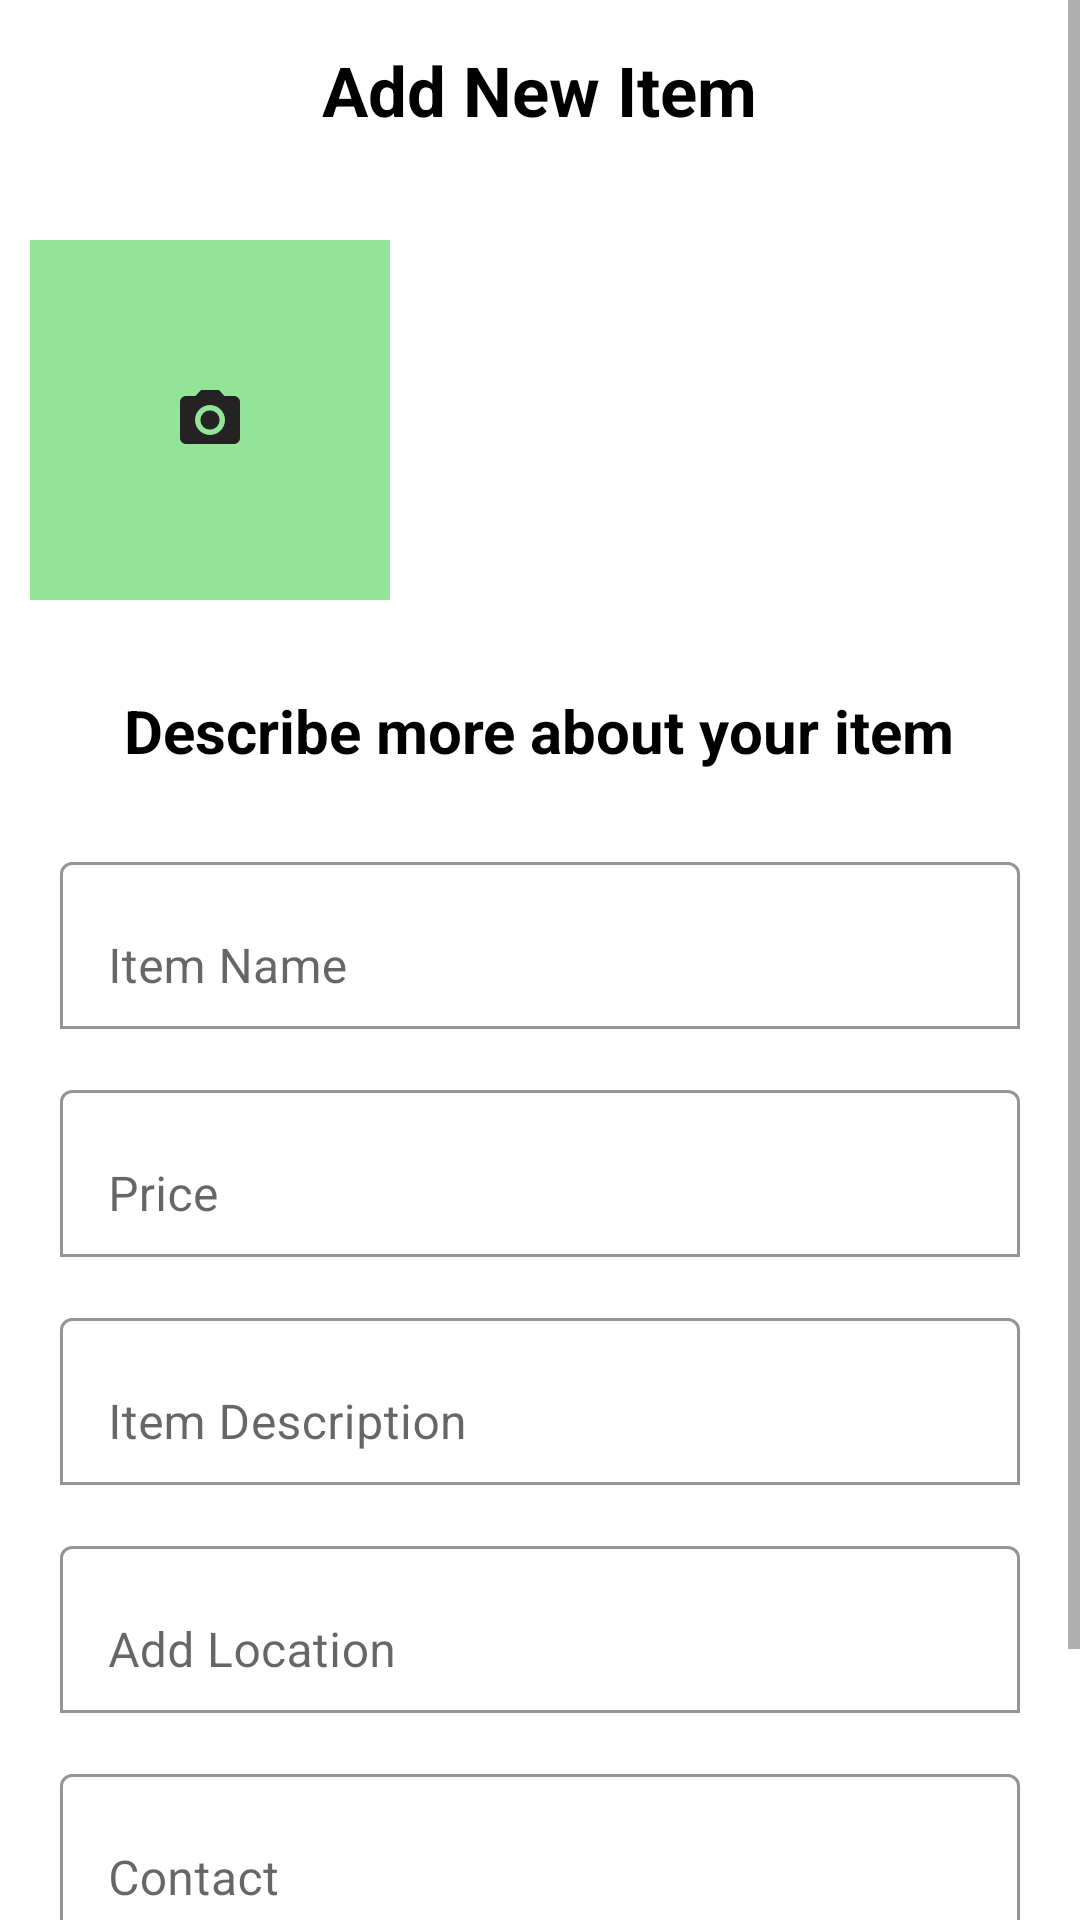

Icons on this 1080 x 1920 Android screen, each with the point to tap as [x,y]:
camera: [210,417]
